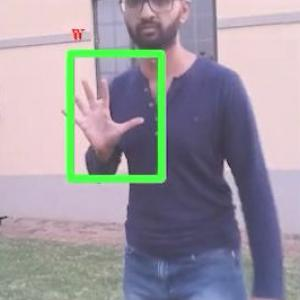follow_hand: (58, 72, 147, 160)
